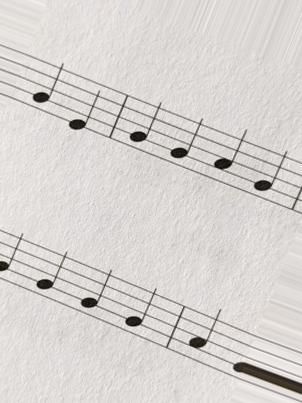A: (185, 306, 224, 381), (207, 126, 247, 197)
E: (67, 72, 105, 141)
G: (119, 277, 164, 346), (26, 52, 67, 125), (251, 142, 291, 213), (33, 241, 73, 310), (76, 261, 116, 330), (167, 111, 205, 181), (125, 97, 163, 166)
